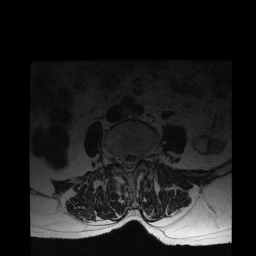CCS_normal: (126, 153, 132, 179)
LFS_stenosis: (138, 149, 144, 166)
LLS_normal: (131, 153, 138, 172)
RFS_normal: (113, 150, 119, 167)
RLS_normal: (119, 154, 125, 172)
